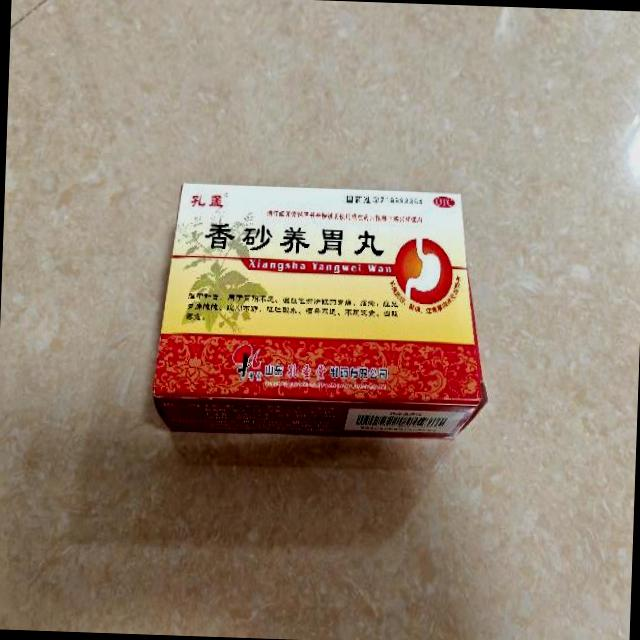box: (150, 179, 491, 442)
